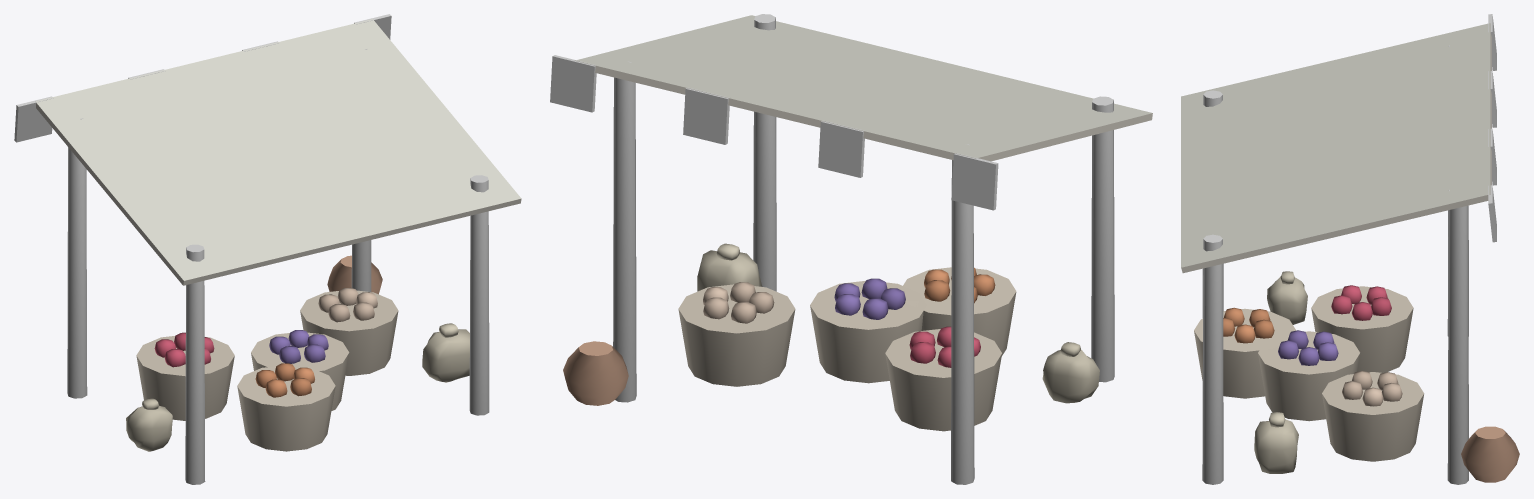
Rendered from hw_foraging_camp.glb.
3 renders of one model, left to right at view 1: azimuth 30°, elevation 25°; view 2: azimuth 150°, elevation 25°; view 3: azimuth 270°, elevation 25°, orthographic. The views are drawn at different scales.
Visible parts, largest first — view 1: Building; view 2: Building; view 3: Building.
Boxes of the visible parts, x1,y1,x2,y2 form: Building: (14, 14, 521, 484); Building: (550, 14, 1152, 484); Building: (1181, 14, 1519, 484).
Bounding box in the file's own units: 2.1 × 1.55 × 1.59.
